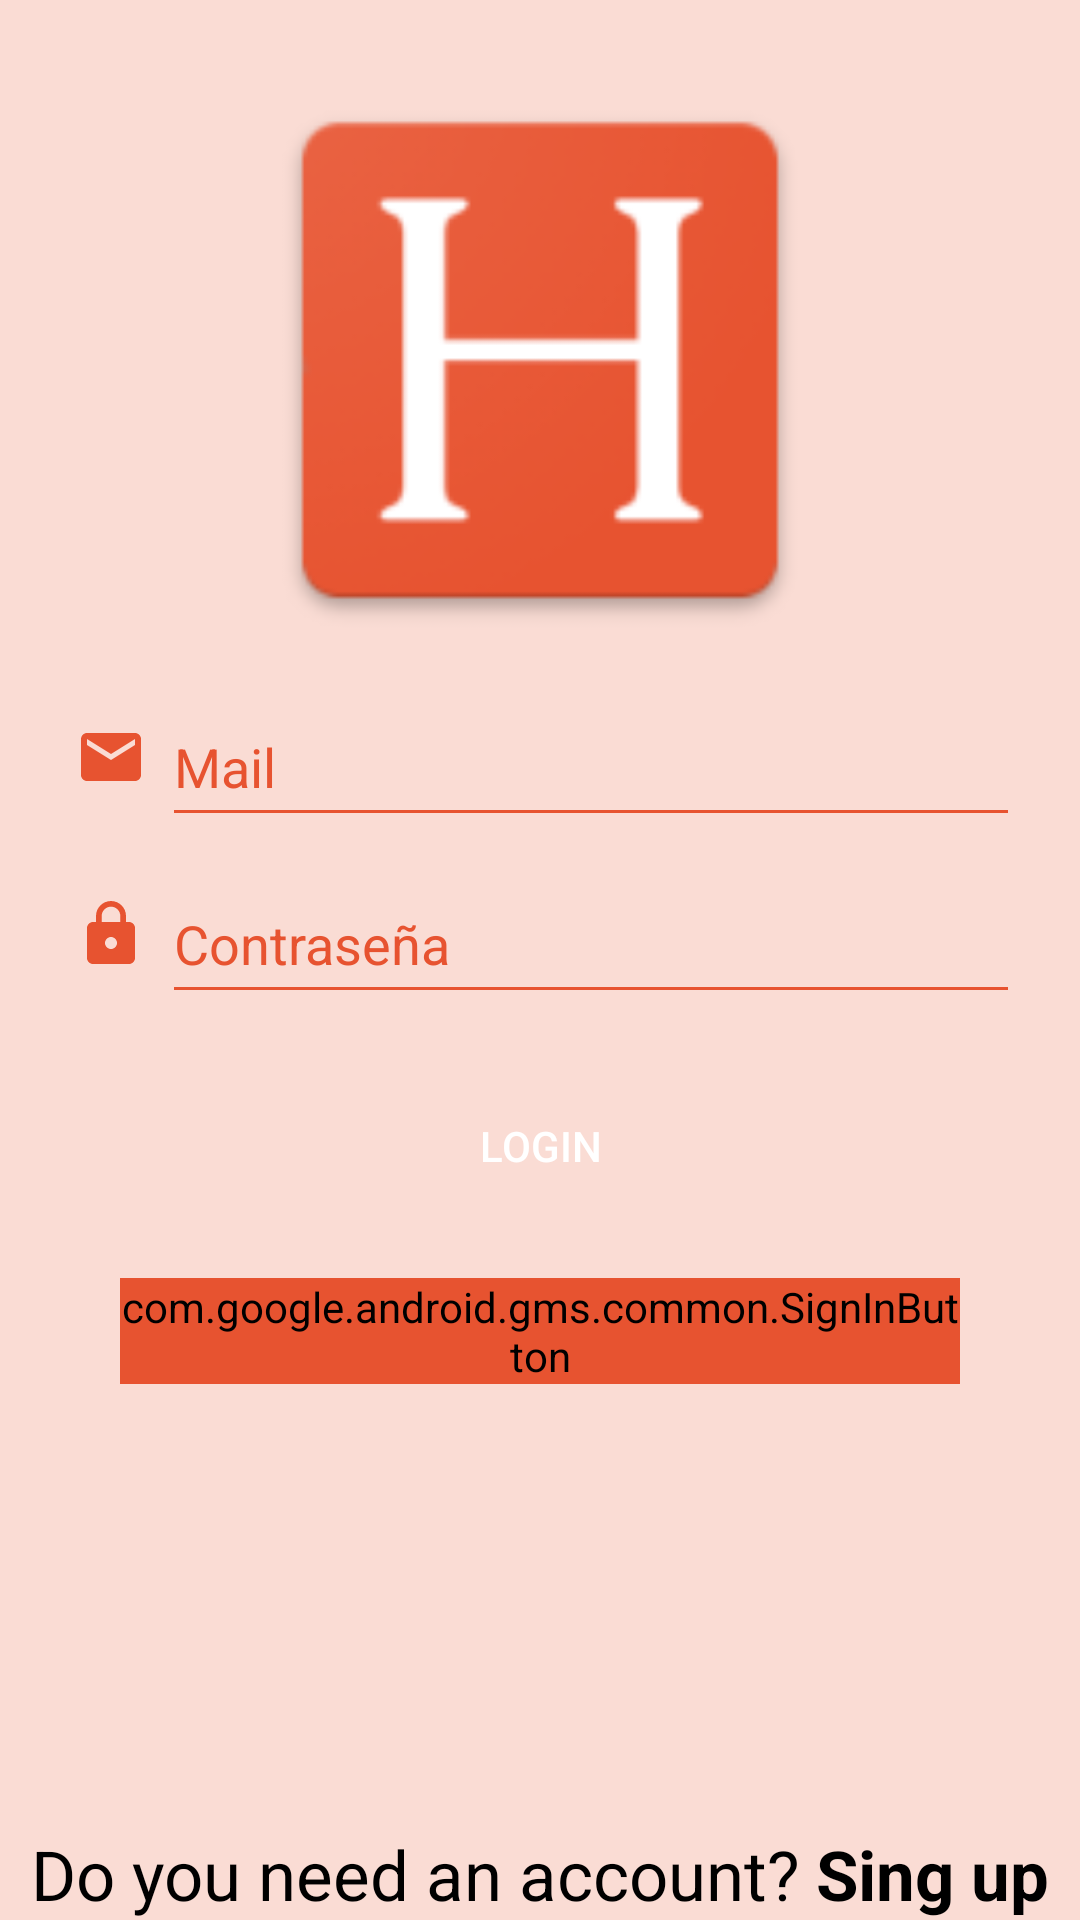

Point at icon controls on the screen. Image size 1080*1920, points as [x,y].
password: [111,932]
